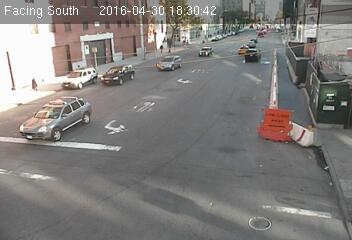neg: (225, 32, 247, 61), (190, 89, 199, 100)
pos: (157, 43, 164, 52)
